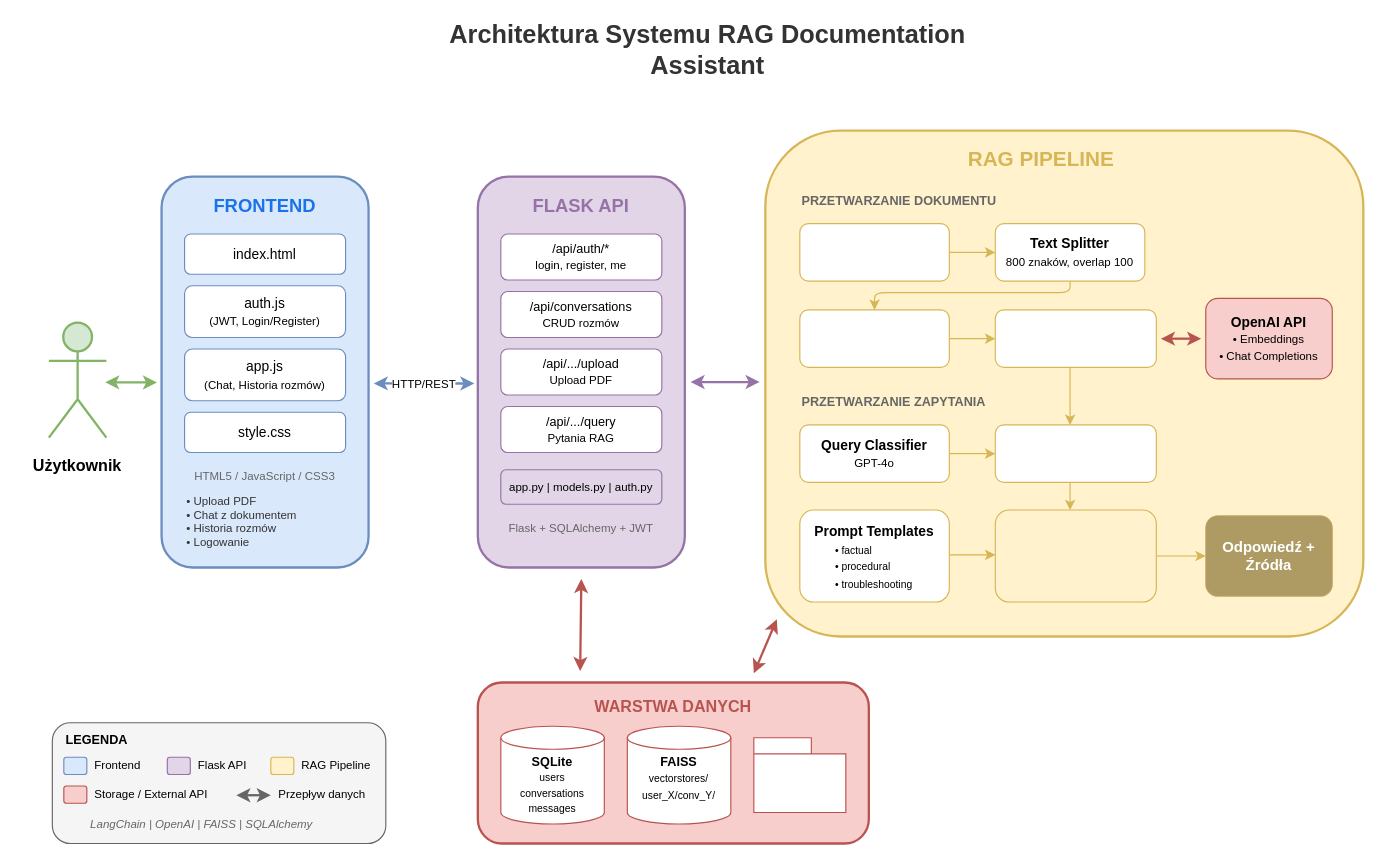
The diagram is 1383 pixels wide and 865 high, and some of its shapes have lost their labels. Each missing label, with the centre of its shape:
"Embeddings text-embedding-3-large" goes at [874,338].
"LLM Generator GPT-4o" goes at [1075,555].
"PDF Processor PyMuPDF" goes at [874,252].
"Retriever Similarity Search (k=5)" goes at [1075,453].
"uploads/ pliki PDF" goes at [799,774].
"Vector Store FAISS (zapisywany na dysk)" goes at [1075,338].
